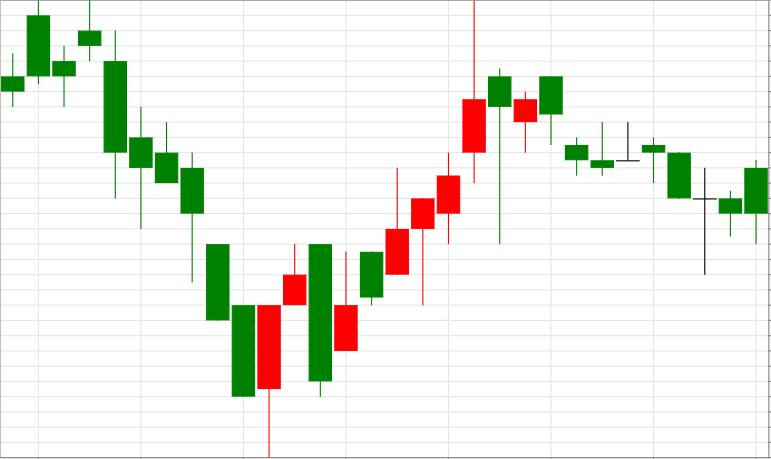bullish_engulfing_rise: (77, 1, 281, 456)
shooting_star_fall: (334, 1, 485, 351)
